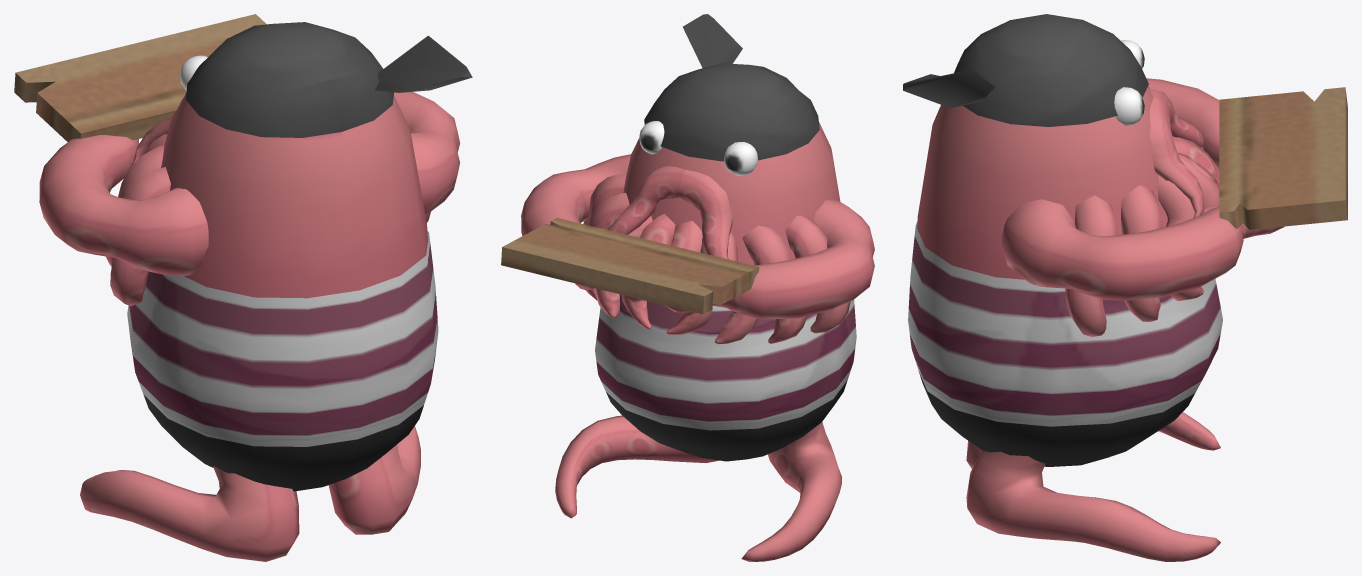
File: tako_idle_c_03.fbx
3 renders of one model, left to right at view 1: azimuth 30°, elevation 25°; view 2: azimuth 150°, elevation 25°; view 3: azimuth 270°, elevation 25°, orthographic. The views are drawn at different scales.
Visible parts, largest first — view 1: I_c_03; view 2: I_c_03; view 3: I_c_03.
Boxes of the visible parts, <box> form: I_c_03: <box>14,14,472,561</box>; I_c_03: <box>501,14,874,561</box>; I_c_03: <box>903,14,1347,561</box>.
Bounding box in the file's own units: 1.38 × 1.66 × 1.4.
Materials: 1 (1 with a texture image).
